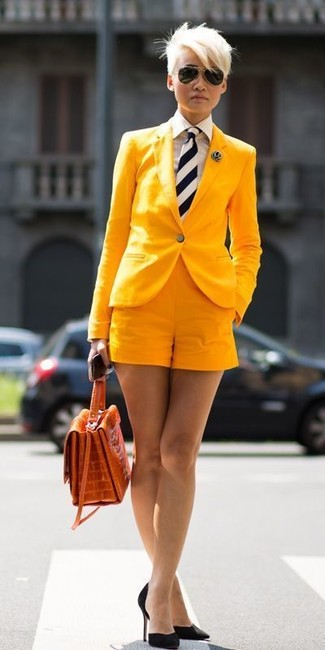glasses: (169, 57, 227, 88)
tie: (171, 120, 202, 222)
